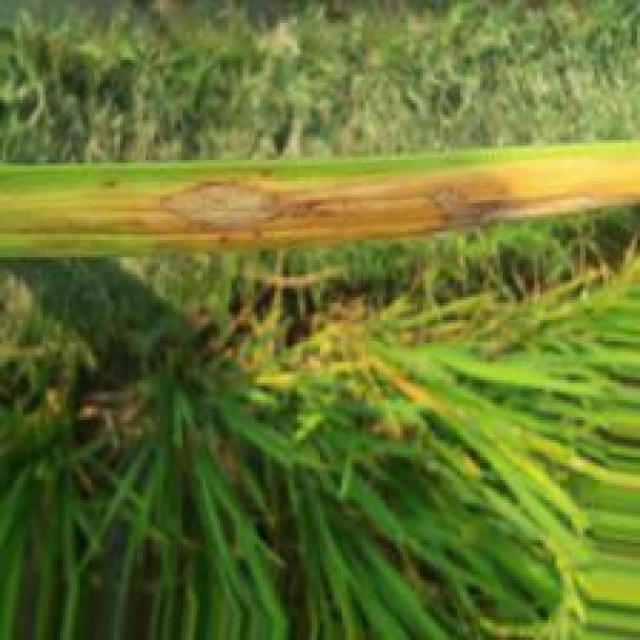Leaf_Blast: (128, 158, 640, 252)
